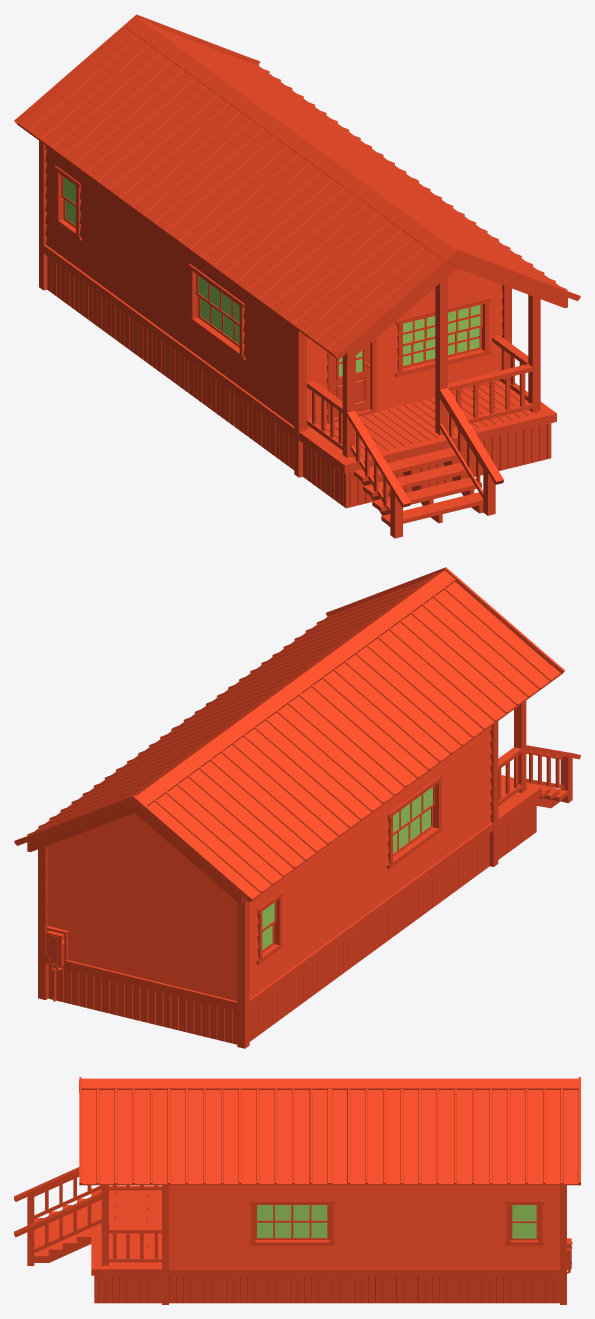
The model's file is SM_Cabin_Big_Summer_Camp.fbx.
3 renders of one model, top to bottom at view 1: azimuth 30°, elevation 25°; view 2: azimuth 150°, elevation 25°; view 3: azimuth 270°, elevation 25°, orthographic. The views are drawn at different scales.
Parts seen in each view (by area): view 1: cabin-big-base-summer-camp, cabin-big-door-main-summer-camp, cabin-big-window-big-l-summer-camp, cabin-big-base-summer-camp.001, cabin-big-window-front-r-summer-camp, cabin-big-window-front-l-summer-camp; view 2: cabin-big-base-summer-camp, cabin-big-window-big-l-summer-camp; view 3: cabin-big-base-summer-camp, cabin-big-window-big-r-summer-camp, cabin-big-window-small-r-summer-camp.
Part boxes in pixels (bbox=[...]): cabin-big-base-summer-camp: bbox=[14, 14, 580, 538]; cabin-big-door-main-summer-camp: bbox=[332, 344, 370, 417]; cabin-big-window-big-l-summer-camp: bbox=[198, 296, 239, 347]; cabin-big-base-summer-camp.001: bbox=[327, 338, 376, 423]; cabin-big-window-front-r-summer-camp: bbox=[448, 327, 481, 357]; cabin-big-window-front-l-summer-camp: bbox=[403, 339, 435, 368]; cabin-big-base-summer-camp: bbox=[14, 567, 580, 1048]; cabin-big-window-big-l-summer-camp: bbox=[393, 807, 432, 856]; cabin-big-base-summer-camp: bbox=[14, 1077, 580, 1304]; cabin-big-window-big-r-summer-camp: bbox=[255, 1222, 329, 1239]; cabin-big-window-small-r-summer-camp: bbox=[510, 1223, 538, 1240].
Bounding box in the file's own units: 6.2 × 5.81 × 15.95.
